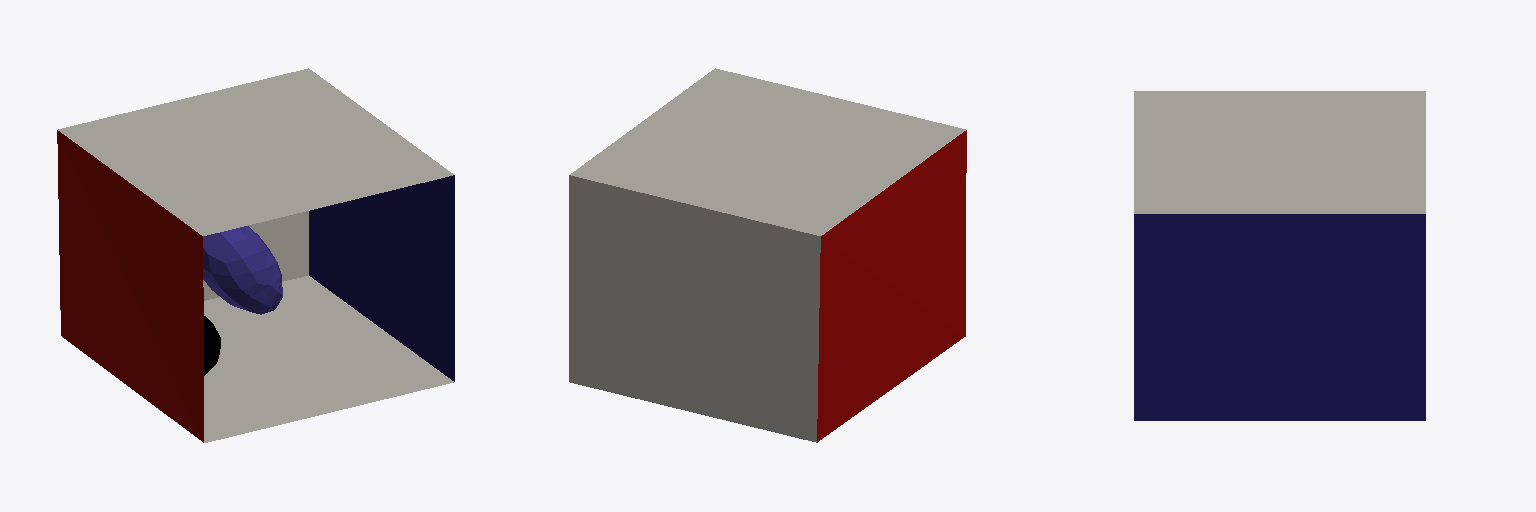
File: CornellBox-Ellipsoid-246.obj
3 renders of one model, left to right at view 1: azimuth 30°, elevation 25°; view 2: azimuth 150°, elevation 25°; view 3: azimuth 270°, elevation 25°, orthographic.
Visible parts, largest first — view 1: ceiling, leftWall, floor, rightWall, leftSphere, backWall, rightSphere; view 2: backWall, ceiling, leftWall; view 3: rightWall, ceiling.
Boxes of the visible parts, x1,y1,x2,y2 form: ceiling: [58, 68, 453, 235]; leftWall: [57, 130, 203, 442]; floor: [204, 276, 453, 442]; rightWall: [309, 175, 454, 381]; leftSphere: [203, 226, 282, 314]; backWall: [203, 211, 308, 300]; rightSphere: [204, 316, 220, 375]; backWall: [569, 175, 820, 442]; ceiling: [570, 68, 965, 235]; leftWall: [817, 130, 966, 442]; rightWall: [1134, 214, 1425, 420]; ceiling: [1134, 91, 1425, 213].
Bounding box in the file's own units: 2.02 × 1.59 × 2.03.